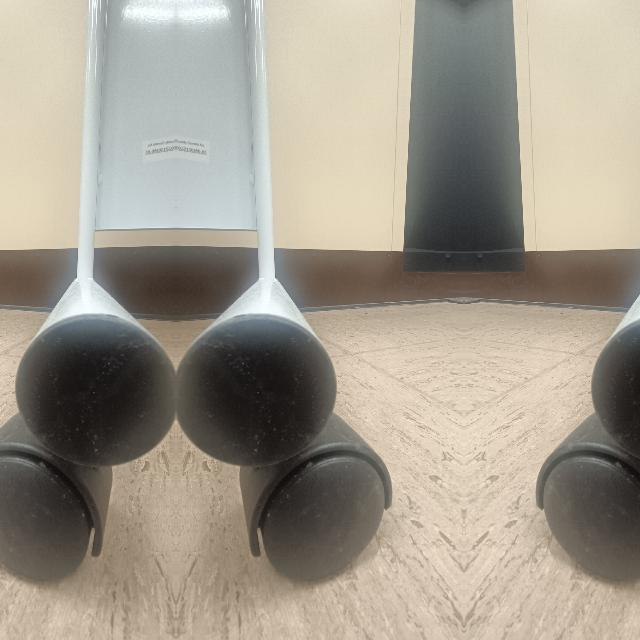obstacle: (175, 142, 397, 584), (0, 142, 175, 584), (530, 142, 640, 584)
